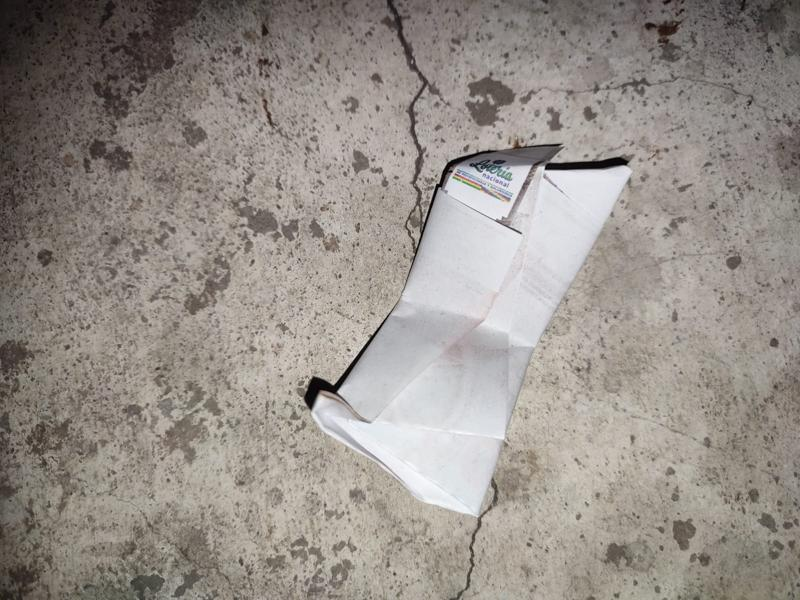papel: (302, 144, 632, 518)
